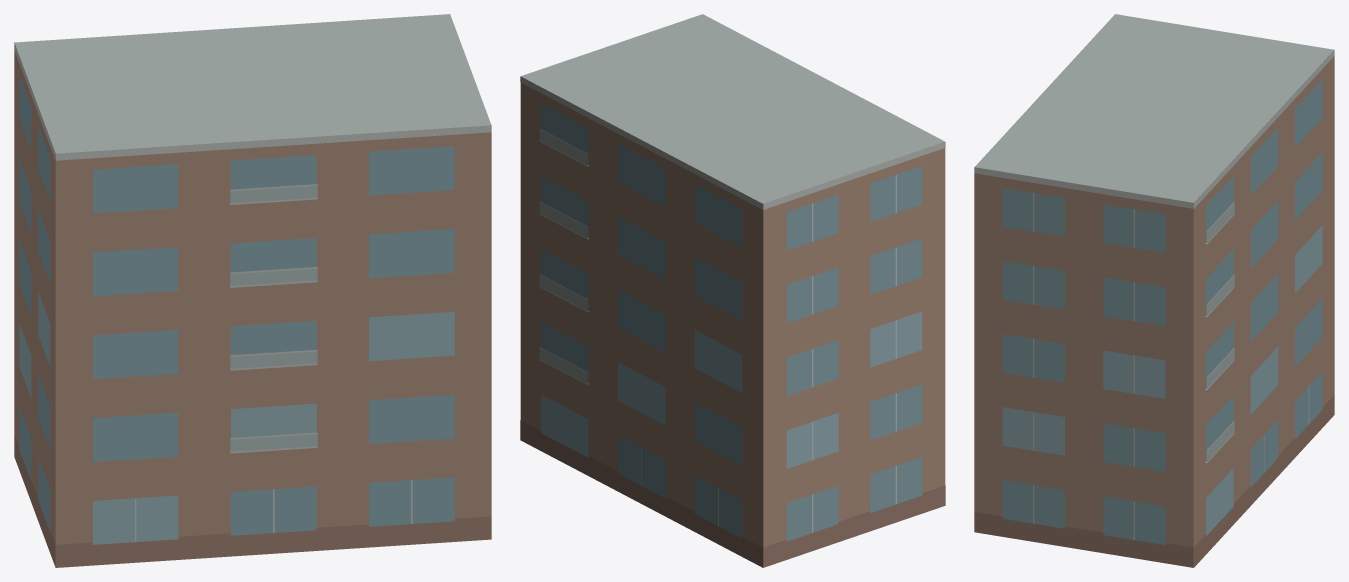
The model's file is survey-upis-32869771.glb.
The picture shows the model from 3 angles, left to right: view 1: azimuth 30°, elevation 25°; view 2: azimuth 150°, elevation 25°; view 3: azimuth 270°, elevation 25°; orthographic projection. The views are drawn at different scales.
Visible parts, largest first — view 1: survey-upis-32869771.tmp; view 2: survey-upis-32869771.tmp; view 3: survey-upis-32869771.tmp.
Boxes of the visible parts, x1=… form: survey-upis-32869771.tmp: x1=14, y1=14, x2=491, y2=567; survey-upis-32869771.tmp: x1=520, y1=14, x2=945, y2=567; survey-upis-32869771.tmp: x1=974, y1=14, x2=1334, y2=567.
Bounding box in the file's own units: 16.21 × 14.6 × 13.06.
